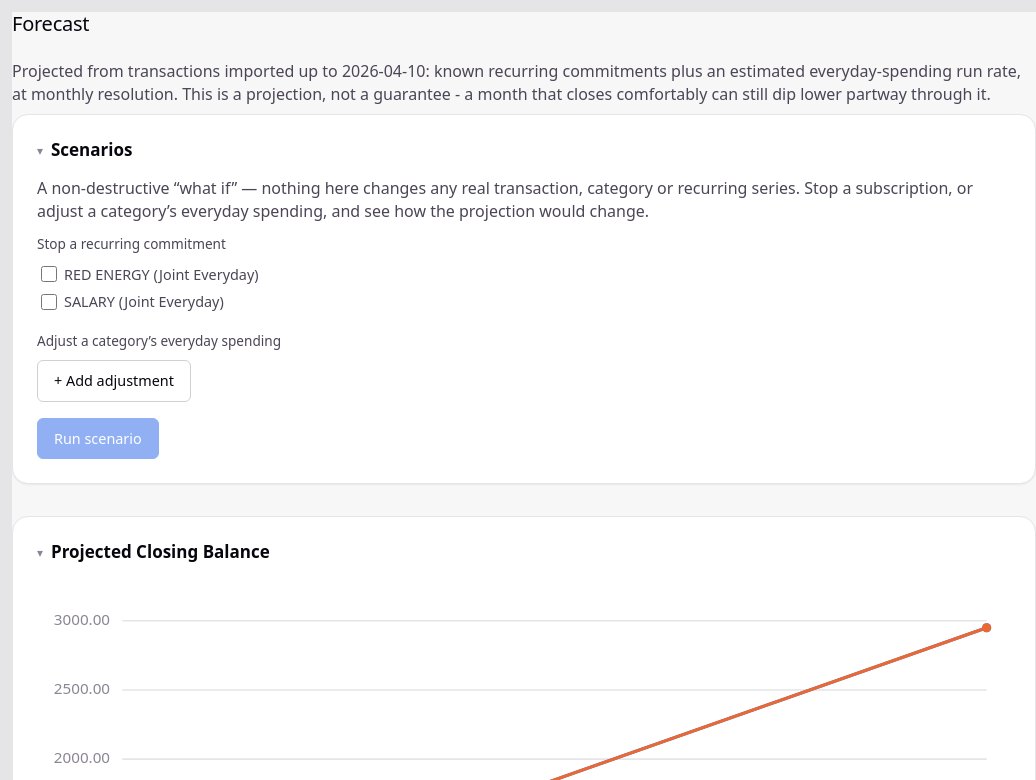
Test case: ForecastPage scenarios › shows an error when the scenario request fails
expect the button "▾ Scenarios" is shown: met, box [37,139,1011,161]
Click the checkbox labelled "RED ENERGY (Joint Everyday)". click: click(49, 274)
box: [41,266,57,282]
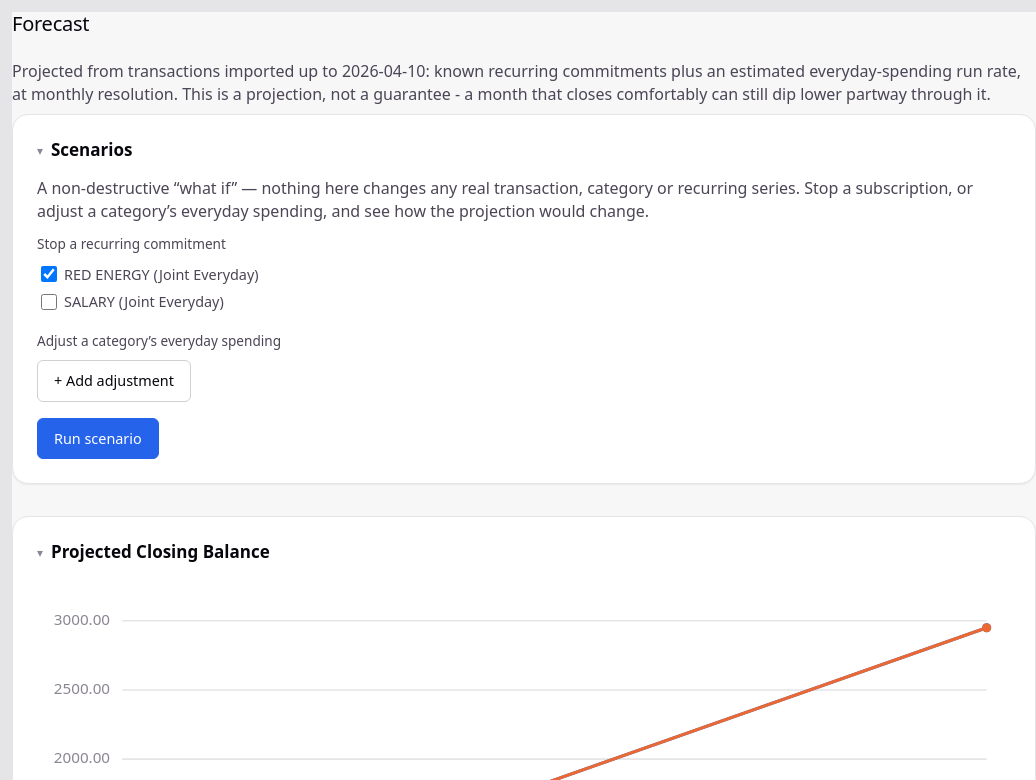
Click the button "Run scenario". click: click(98, 438)
box: [37,418,159,459]
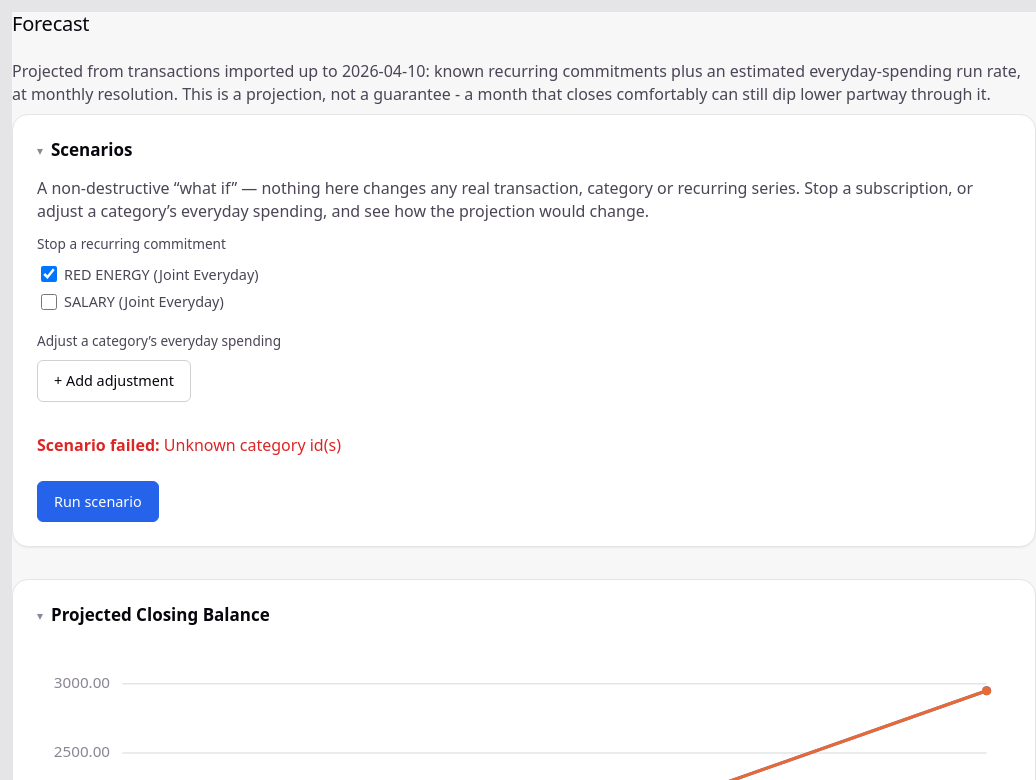
expect the text "Scenario failed: Unknown category id(s)" is shown: met, box [37,434,341,456]
